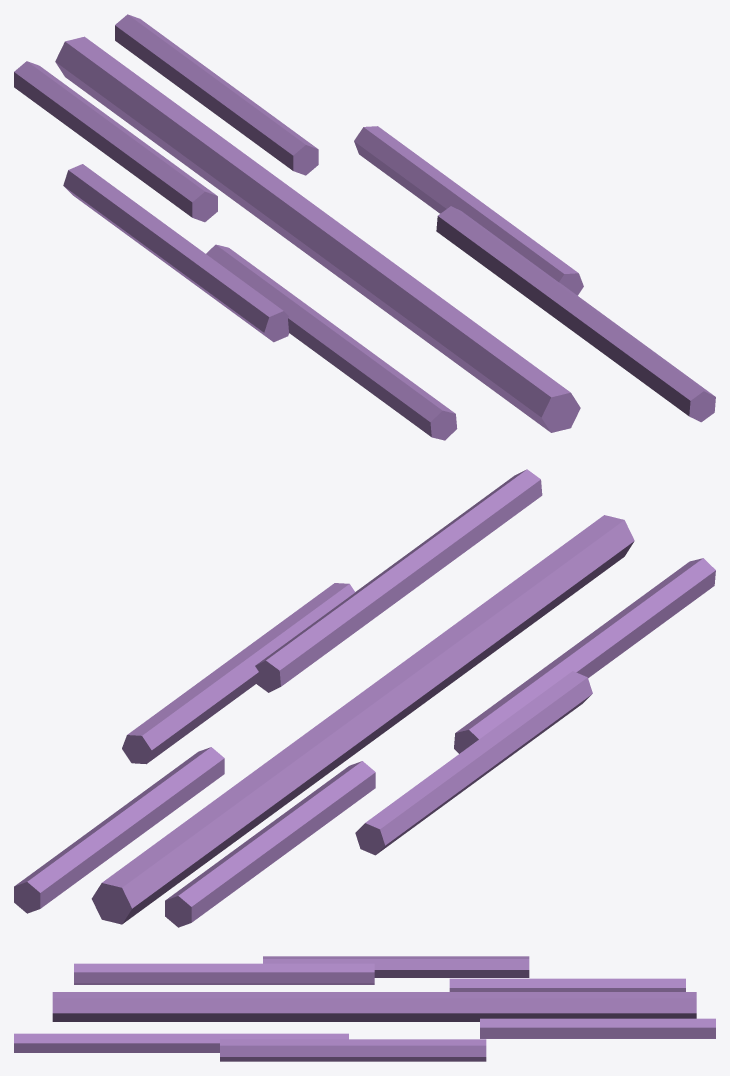
File: sea_fan.glb
The picture shows the model from 3 angles, top to bottom: view 1: azimuth 30°, elevation 25°; view 2: azimuth 150°, elevation 25°; view 3: azimuth 270°, elevation 25°; orthographic projection. The views are drawn at different scales.
Parts seen in each view (by area): view 1: world; view 2: world; view 3: world.
Part boxes in pixels (x1,y1,x2,y2): world: [14, 14, 715, 440]; world: [14, 469, 715, 927]; world: [14, 956, 715, 1061].
Size of the model in its own units: 0.5117 by 0.0606 by 1.63.
